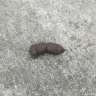Dog: (30, 43, 66, 58)
